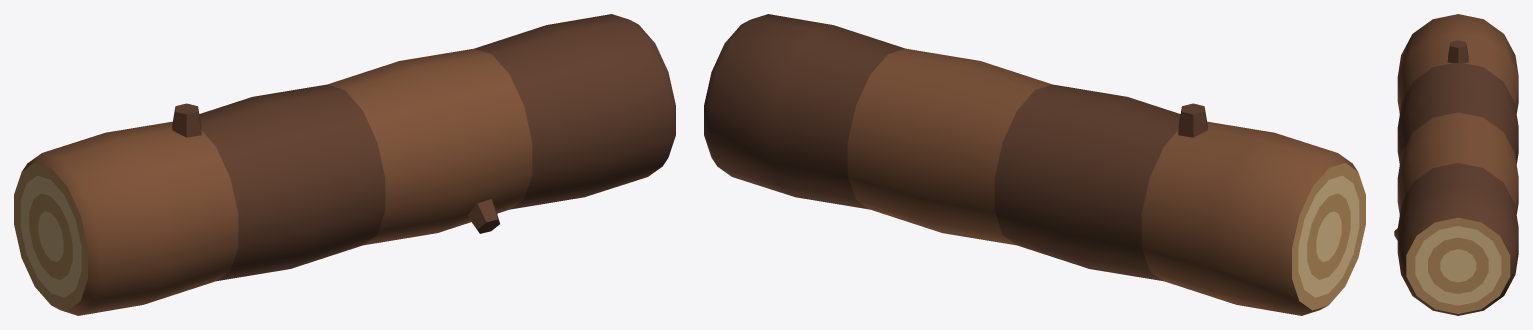
Rendered from dash_log.glb.
3 views of the same model, side by side, from view 1: azimuth 30°, elevation 25°; view 2: azimuth 150°, elevation 25°; view 3: azimuth 270°, elevation 25° (orthographic). The views are drawn at different scales.
Parts seen in each view (by area): view 1: dash_log; view 2: dash_log; view 3: dash_log.
Part boxes in pixels (box(x1,y1,x2,y2)): dash_log: box(14, 14, 675, 315); dash_log: box(704, 14, 1365, 315); dash_log: box(1394, 14, 1518, 315).
Bounding box in the file's own units: 2.6 × 0.738 × 0.6784.
